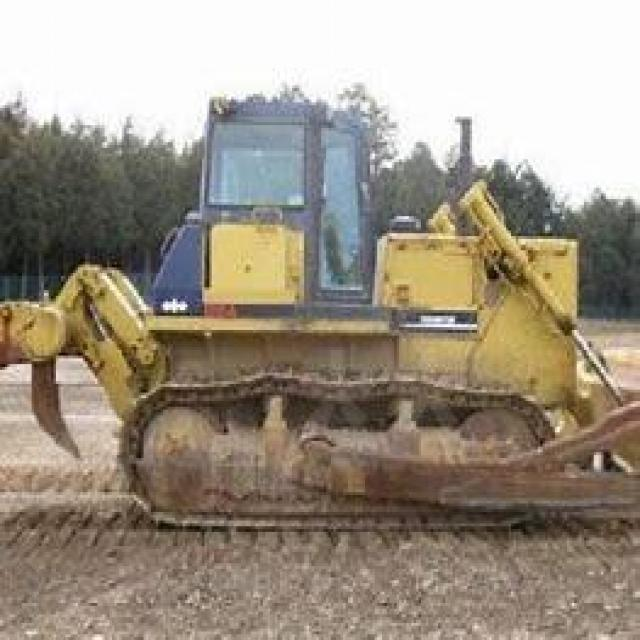Bulldozer: (0, 88, 638, 543)
